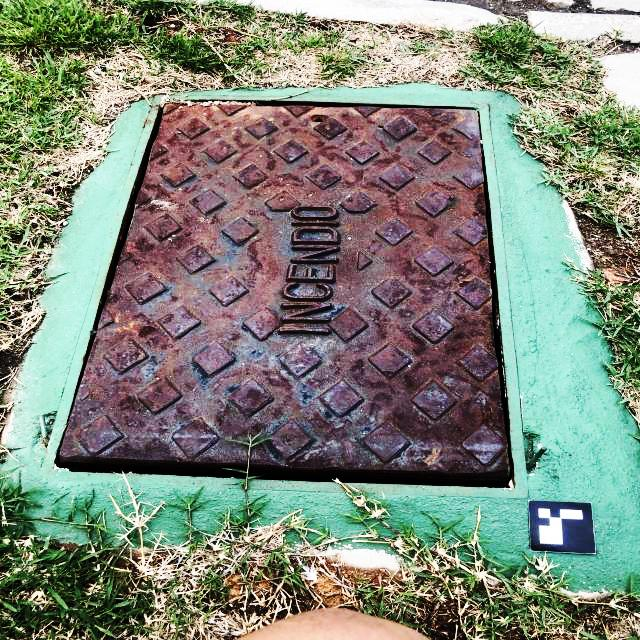Corrosion: (58, 103, 509, 481)
